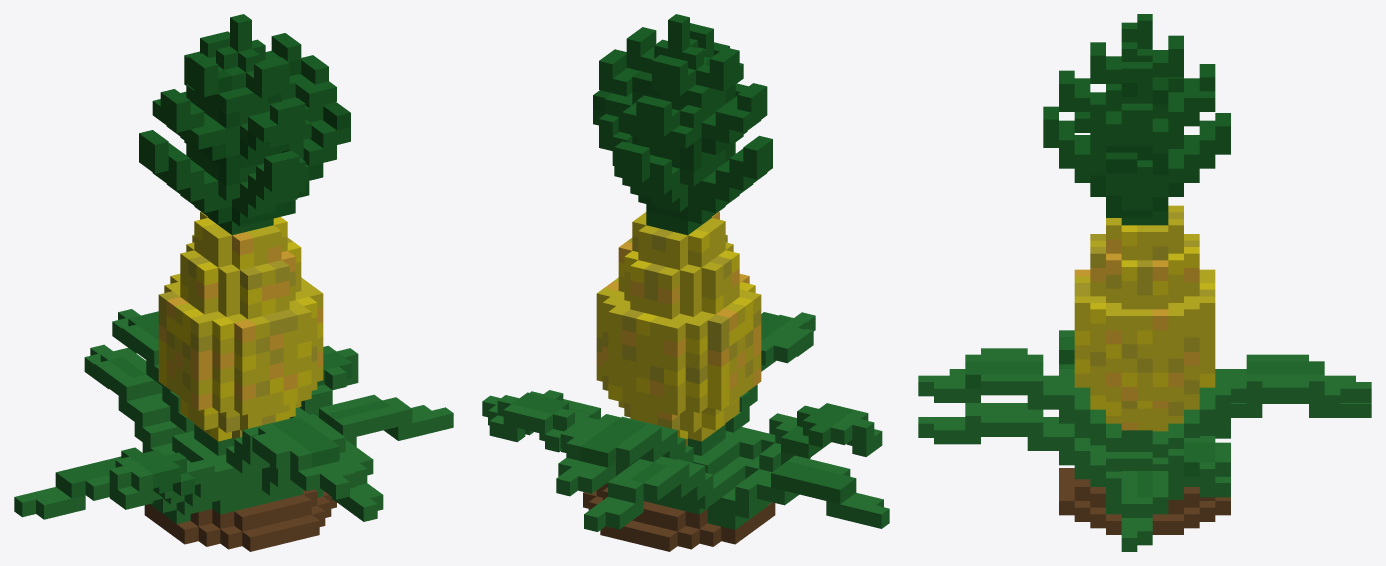
File: Herbácea - Abacaxi.obj
3 views of the same model, side by side, from view 1: azimuth 30°, elevation 25°; view 2: azimuth 150°, elevation 25°; view 3: azimuth 270°, elevation 25° (orthographic). The views are drawn at different scales.
Size of the model in its own units: 3 by 3.4 by 2.9.
1 material, 1 textured.
